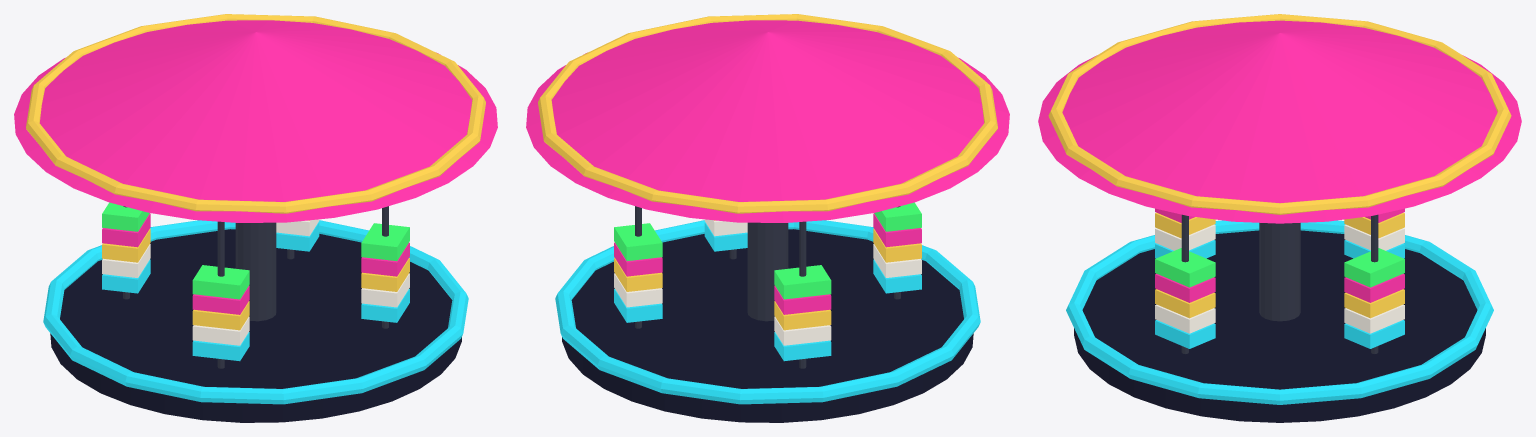
The model's file is library-transformed.glb.
3 views of the same model, side by side, from view 1: azimuth 30°, elevation 25°; view 2: azimuth 150°, elevation 25°; view 3: azimuth 270°, elevation 25° (orthographic).
Parts seen in each view (by area): view 1: park_neon_magenta, park_dark, park_neon_cyan, park_neon_yellow, park_metal, park_neon_green, park_white; view 2: park_neon_magenta, park_dark, park_neon_cyan, park_neon_yellow, park_metal, park_neon_green, park_white; view 3: park_neon_magenta, park_dark, park_neon_cyan, park_neon_yellow, park_metal, park_white, park_neon_green.
Part boxes in pixels (x1,y1,x2,y2): park_neon_magenta: [14, 20, 497, 314]; park_dark: [50, 229, 461, 422]; park_neon_cyan: [43, 220, 468, 404]; park_neon_yellow: [26, 14, 485, 330]; park_metal: [123, 206, 388, 368]; park_neon_green: [102, 202, 409, 299]; park_white: [102, 219, 409, 345]; park_neon_magenta: [526, 20, 1009, 314]; park_dark: [562, 229, 973, 422]; park_neon_cyan: [555, 220, 980, 404]; park_neon_yellow: [538, 14, 997, 330]; park_metal: [635, 206, 900, 368]; park_neon_green: [614, 202, 921, 299]; park_white: [614, 219, 921, 345]; park_neon_magenta: [1038, 20, 1521, 302]; park_dark: [1074, 230, 1485, 422]; park_neon_cyan: [1066, 220, 1493, 404]; park_neon_yellow: [1048, 14, 1511, 318]; park_metal: [1181, 214, 1378, 353]; park_white: [1155, 224, 1404, 333]; park_neon_green: [1155, 248, 1404, 287].
Size of what is drawn, in the model's own units: 9.4 by 6.5 by 9.4.
